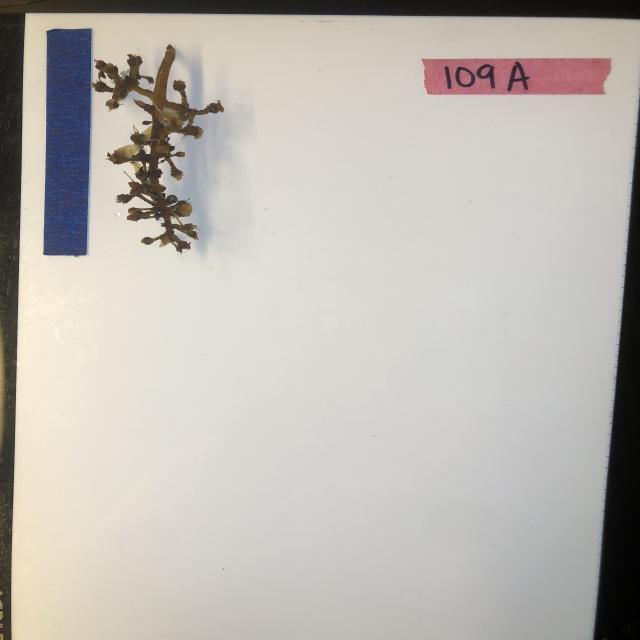index: (419, 55, 615, 95)
measure_label: (42, 27, 90, 258)
rachis_cluster: (93, 41, 230, 256)
